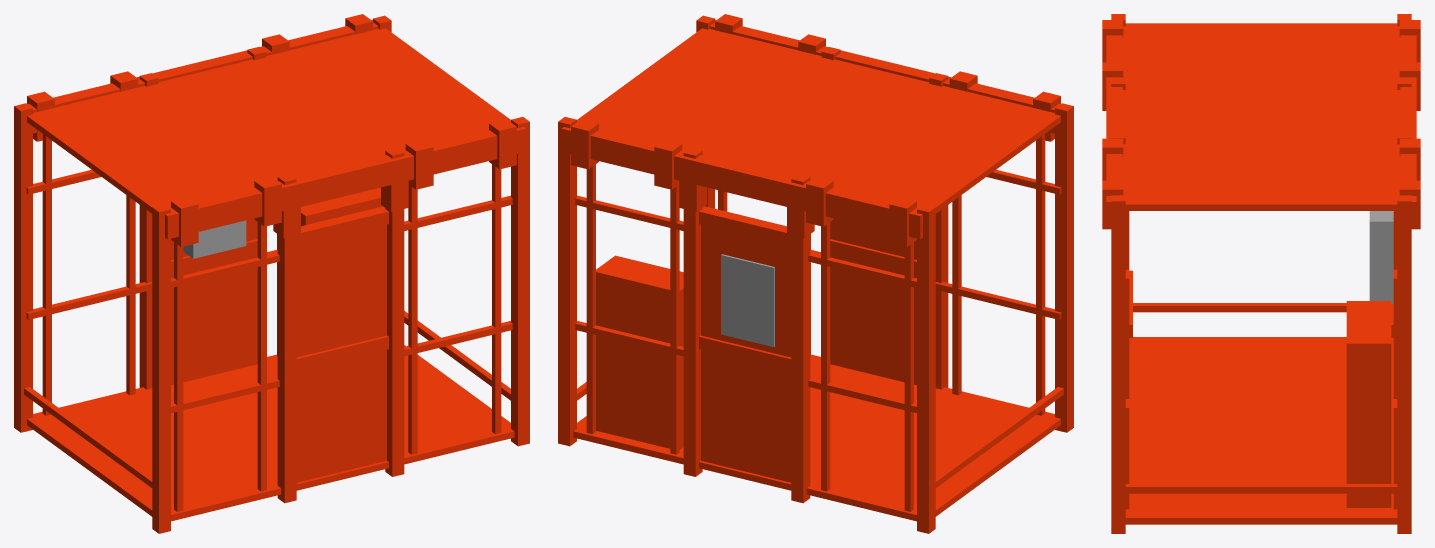
The model's file is Rift_Main.fbx.
3 renders of one model, left to right at view 1: azimuth 30°, elevation 25°; view 2: azimuth 150°, elevation 25°; view 3: azimuth 270°, elevation 25°, orthographic. The views are drawn at different scales.
Visible parts, largest first — view 1: Cube; view 2: Cube; view 3: Cube.
Part boxes in pixels (left/top/right/bottom): Cube: left=14, top=14, right=529, bottom=533; Cube: left=558, top=14, right=1073, bottom=533; Cube: left=1102, top=14, right=1420, bottom=533.
Size of the model in its own units: 310 by 259 by 223.
